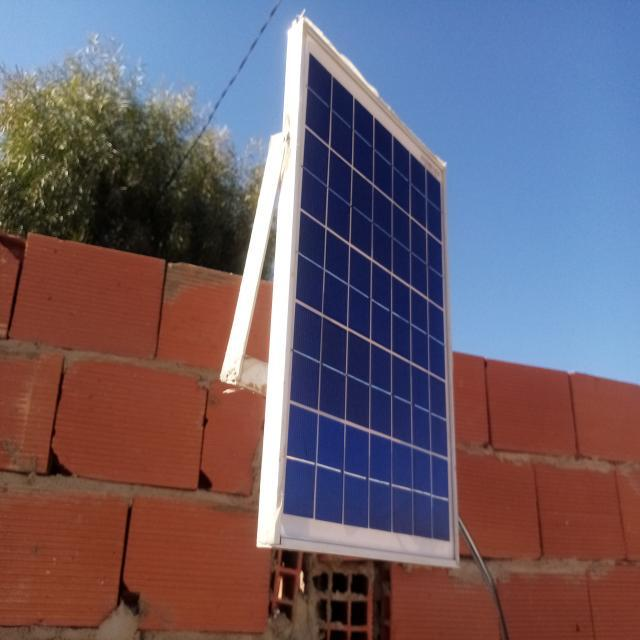no faulty: (272, 25, 455, 566)
